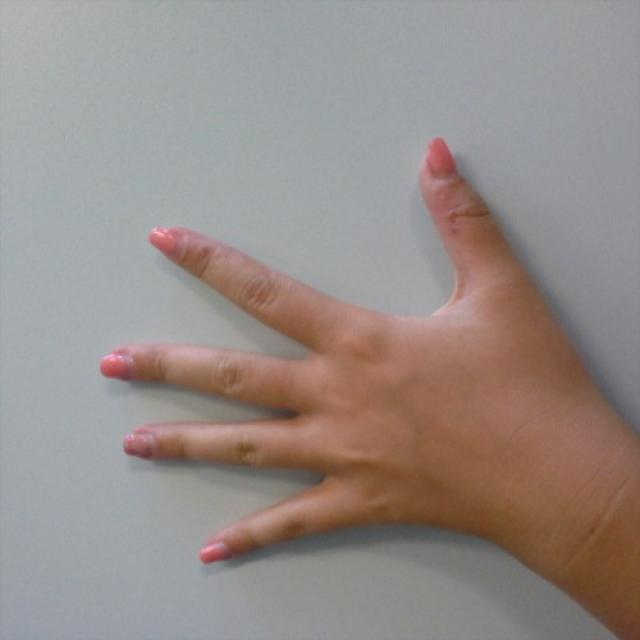paper: (101, 132, 529, 568)
